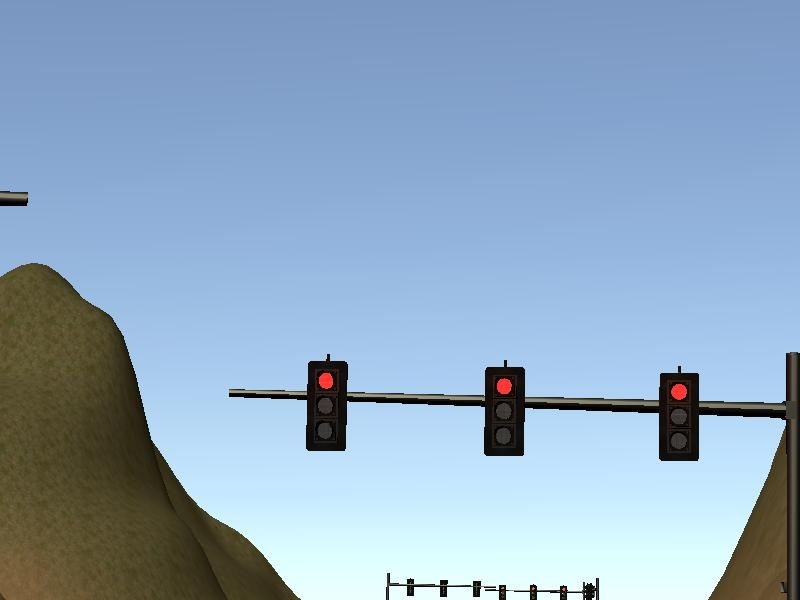RED: (306, 361, 347, 451), (482, 367, 523, 457), (657, 374, 698, 464)
